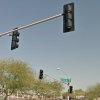Traffic light: (51, 1, 84, 32)
